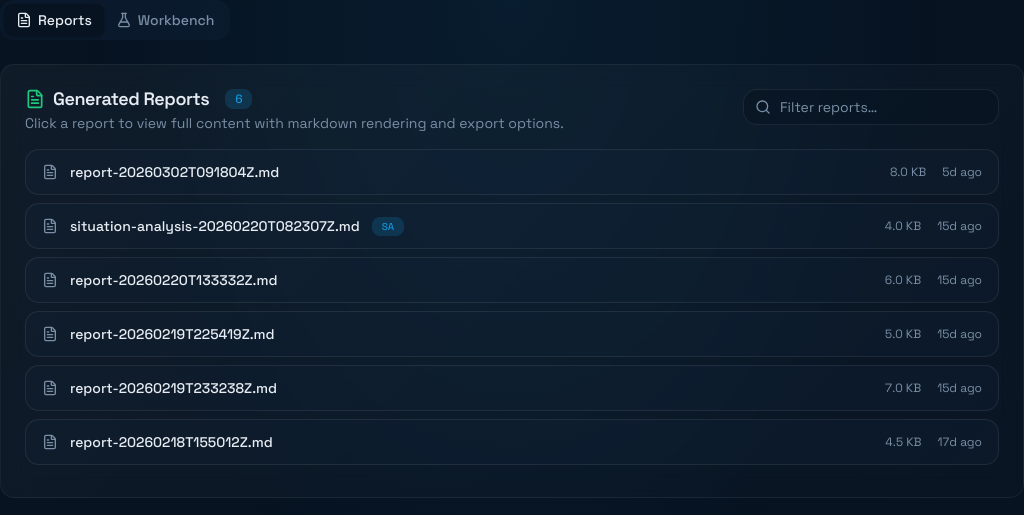
Test: ReportsPage › filters reports when search input is used
expect the text "report-20260302T091804Z.md" is shown: met, box left=70, top=162, right=279, bottom=182
In the field with placeholder "Filter reports…": (871,107) left=743, top=89, right=999, bottom=125, type "situation"
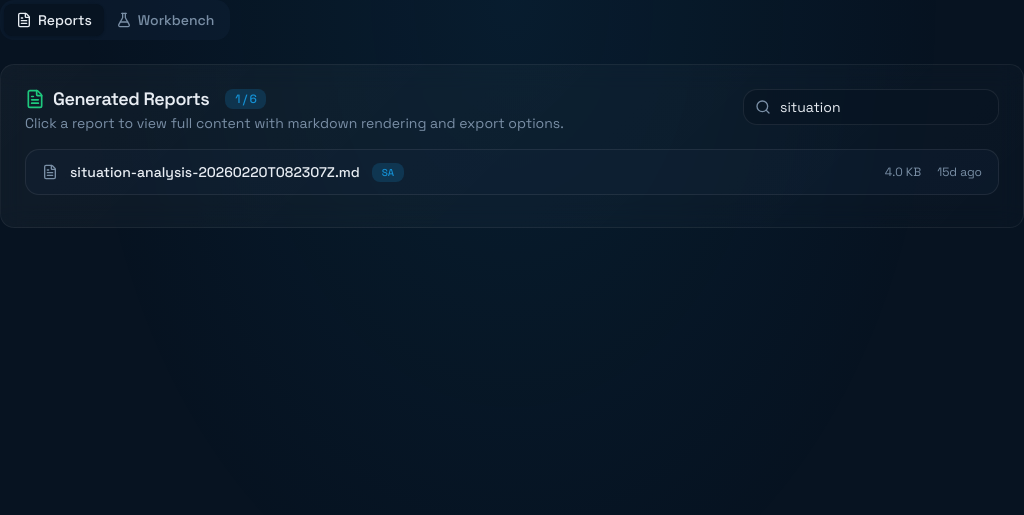
expect the text "situation-analysis-20260220T082307Z.md" is shown: met, box left=70, top=162, right=360, bottom=182
expect the button "report-20260302T091804Z.md" is gone: met
